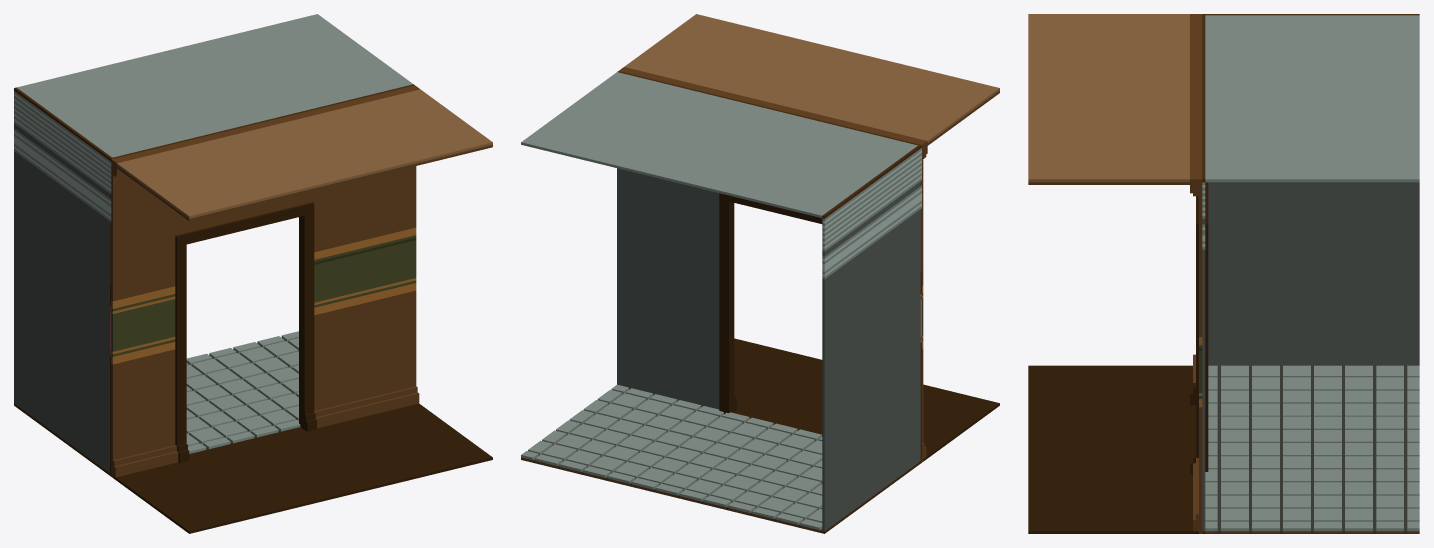
The model's file is i2bathroomfinal.obj.
The picture shows the model from 3 angles, left to right: view 1: azimuth 30°, elevation 25°; view 2: azimuth 150°, elevation 25°; view 3: azimuth 270°, elevation 25°; orthographic projection. The views are drawn at different scales.
Size of the model in its own units: 126 by 126 by 126.
1 material, 1 textured.
